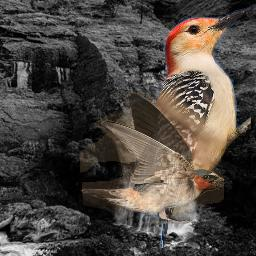Swallow: (80, 92, 224, 224)
Woodpecker: (153, 5, 251, 250)
